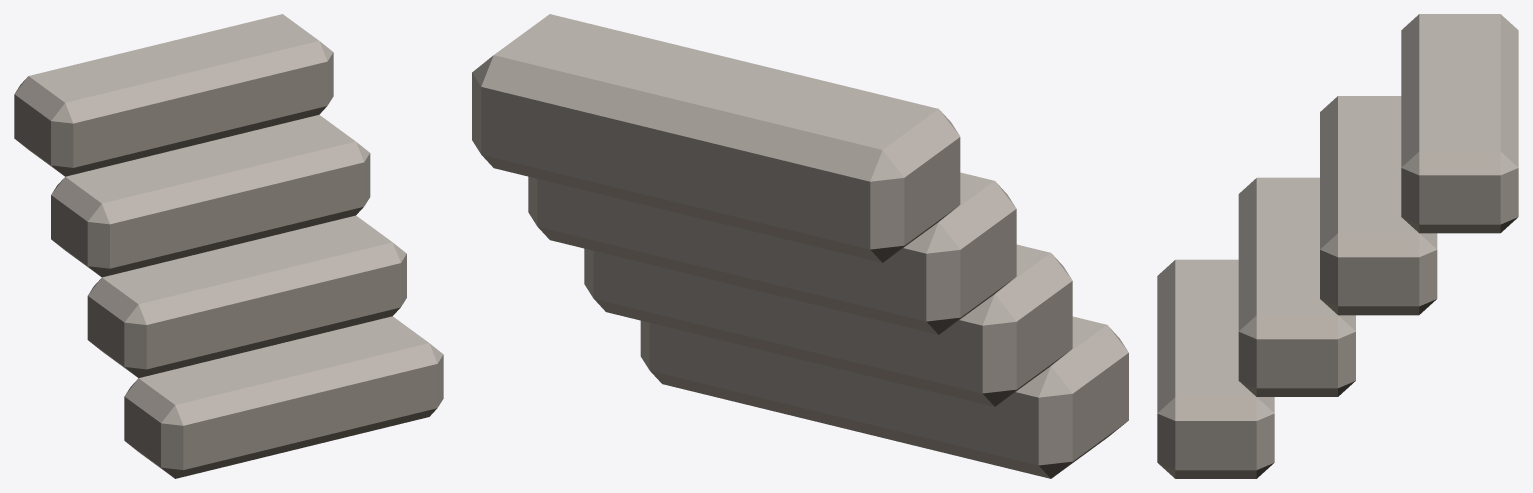
Rendered from m_kub_stone_stairs_only.FBX.
The picture shows the model from 3 angles, left to right: view 1: azimuth 30°, elevation 25°; view 2: azimuth 150°, elevation 25°; view 3: azimuth 270°, elevation 25°; orthographic projection. The views are drawn at different scales.
Visible parts, largest first — view 1: m_kub_stone_stairs_only; view 2: m_kub_stone_stairs_only; view 3: m_kub_stone_stairs_only.
Boxes of the visible parts, bbox=[...] form: m_kub_stone_stairs_only: bbox=[14, 14, 443, 478]; m_kub_stone_stairs_only: bbox=[472, 14, 1128, 478]; m_kub_stone_stairs_only: bbox=[1157, 14, 1518, 478].
Size of the model in its own units: 2 by 2 by 2.
